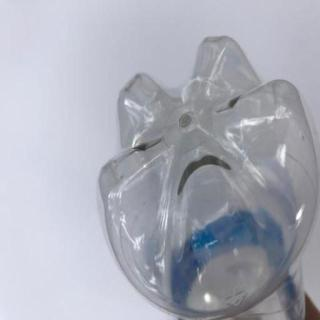Plastic-bottle: (98, 36, 320, 320)
